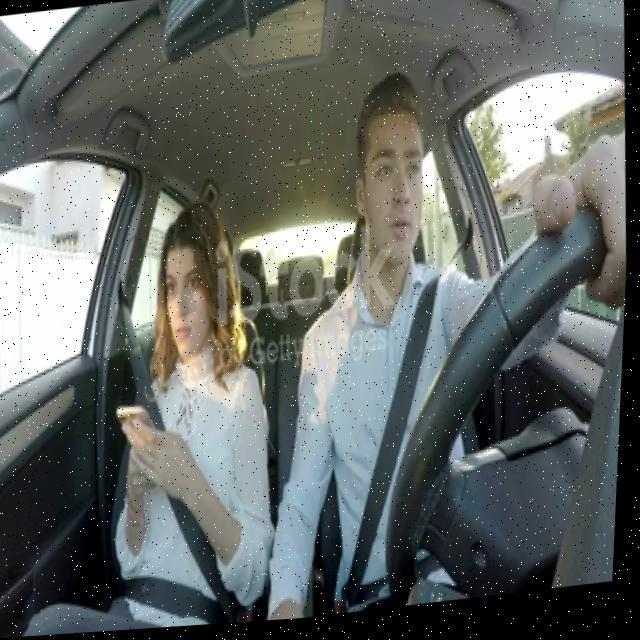PhoneCall: (118, 404, 162, 466)
